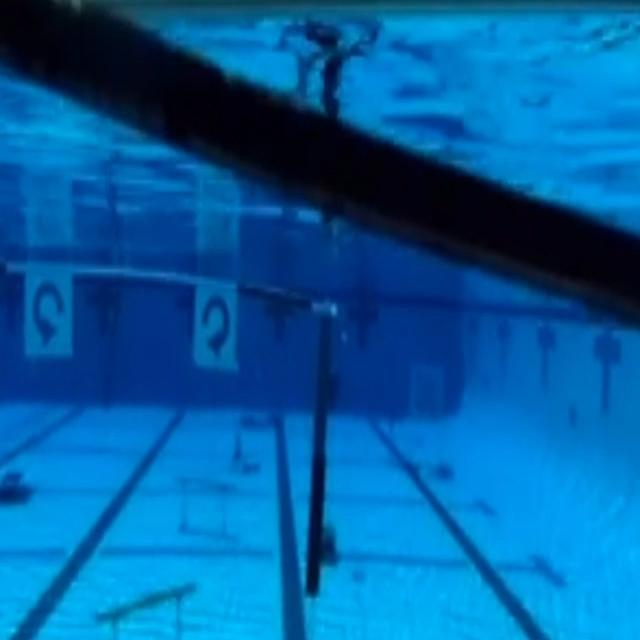Gate: (8, 254, 336, 595)
